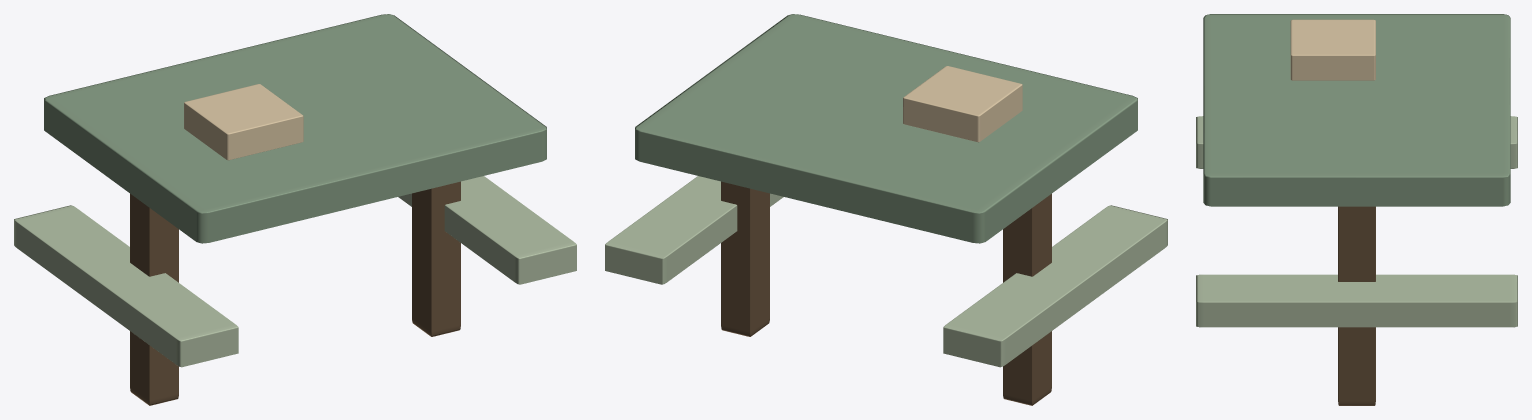
The model's file is picnic-1.glb.
The picture shows the model from 3 angles, left to right: view 1: azimuth 30°, elevation 25°; view 2: azimuth 150°, elevation 25°; view 3: azimuth 270°, elevation 25°; orthographic projection. The views are drawn at different scales.
Visible parts, largest first — view 1: picnic-1-0; view 2: picnic-1-0; view 3: picnic-1-0.
Boxes of the visible parts, bbox=[...] form: picnic-1-0: bbox=[14, 14, 576, 405]; picnic-1-0: bbox=[605, 14, 1167, 405]; picnic-1-0: bbox=[1196, 14, 1517, 405].
Bounding box in the file's own units: 0.932 × 0.62 × 0.68.
